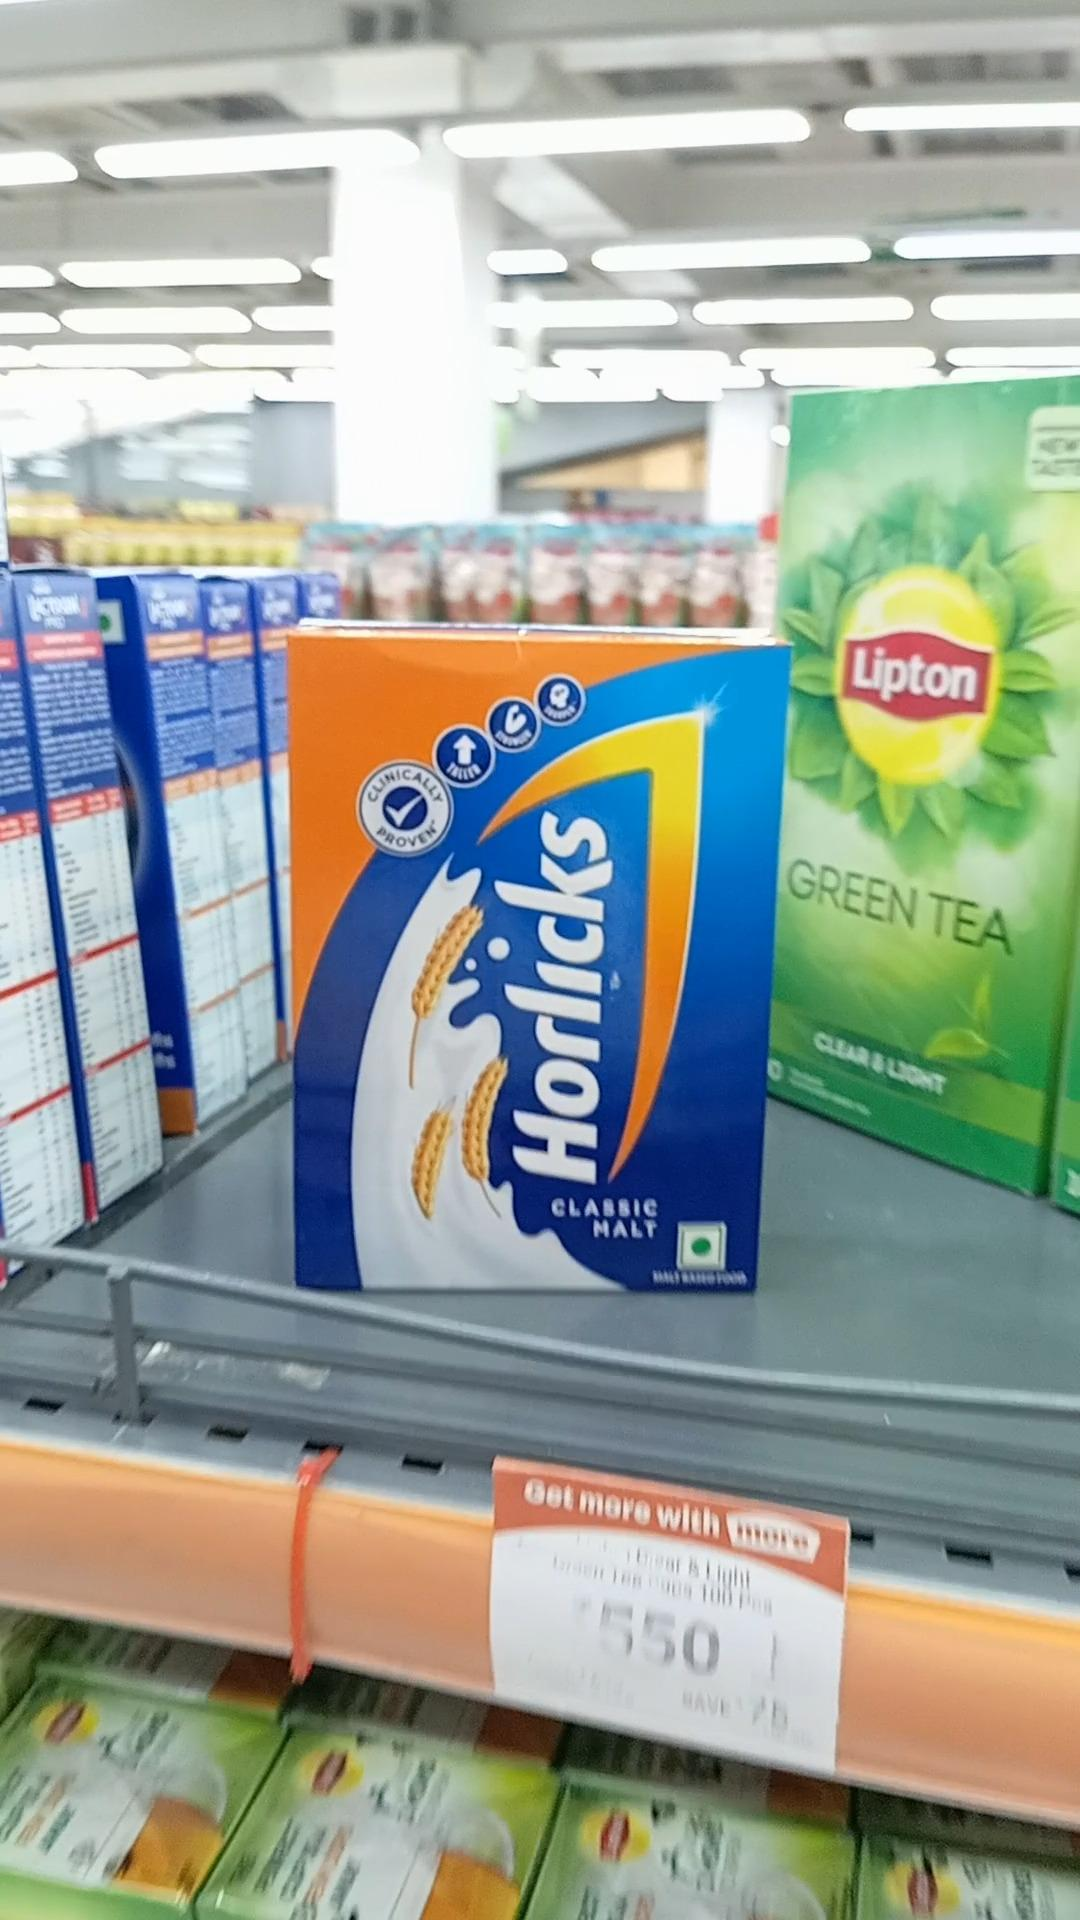HORLICK_CLASSIC_MALT_500_G_PACK: (297, 642, 783, 1295)
